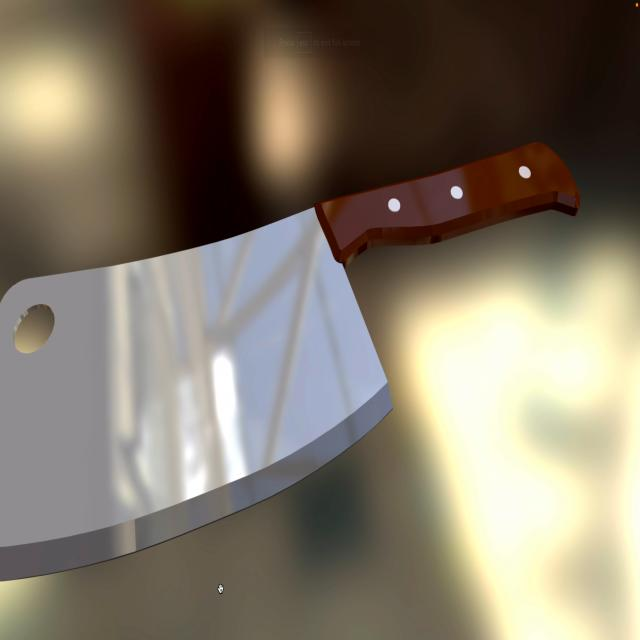cleaver: (0, 139, 583, 565)
